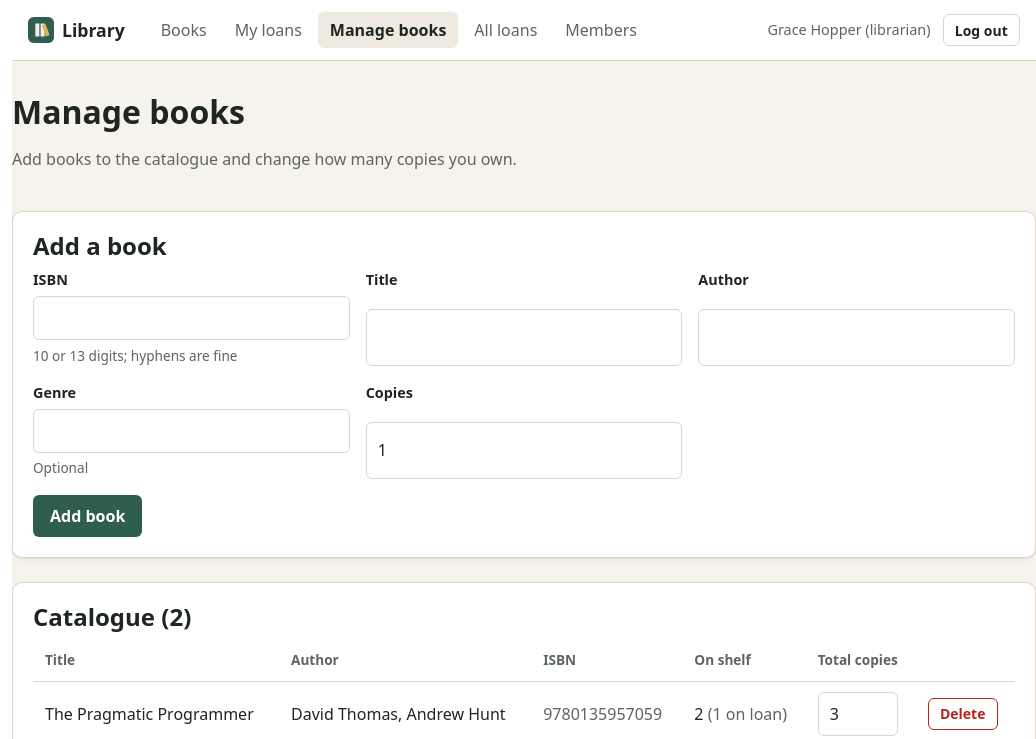
manage books › adds a book and shows field errors from the API first
Type "12345" into the field labelled "ISBN" at point(191, 318), box [33,296,350,340]
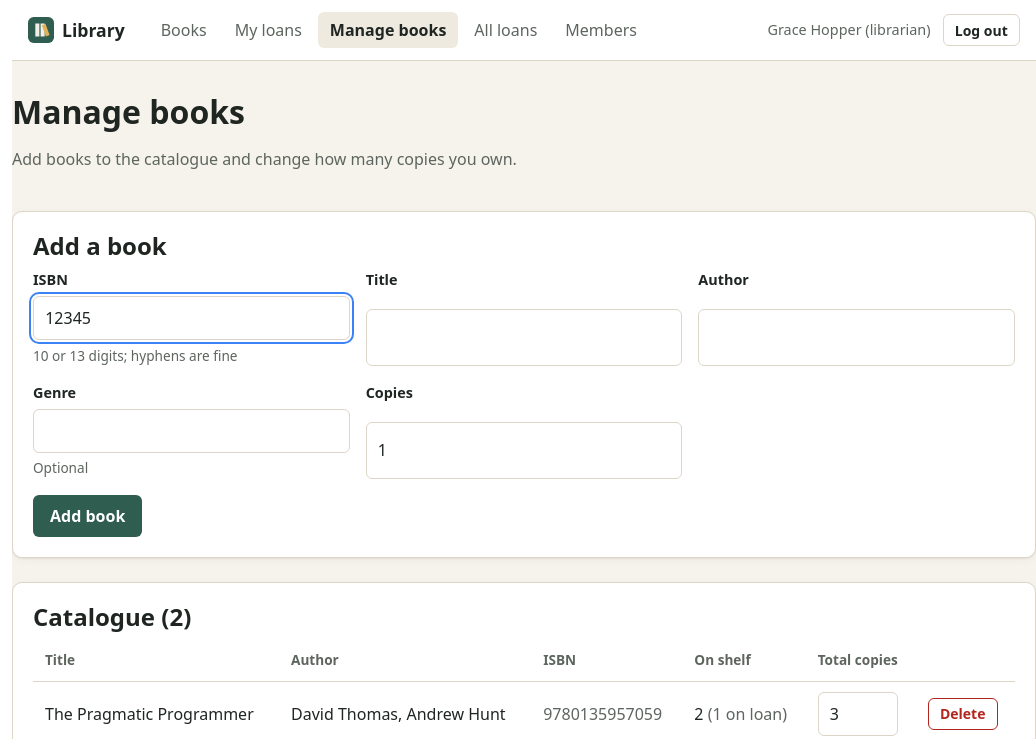
Type "Test-Driven Development" into the field labelled "Title" at point(524, 338), box [366,309,682,366]
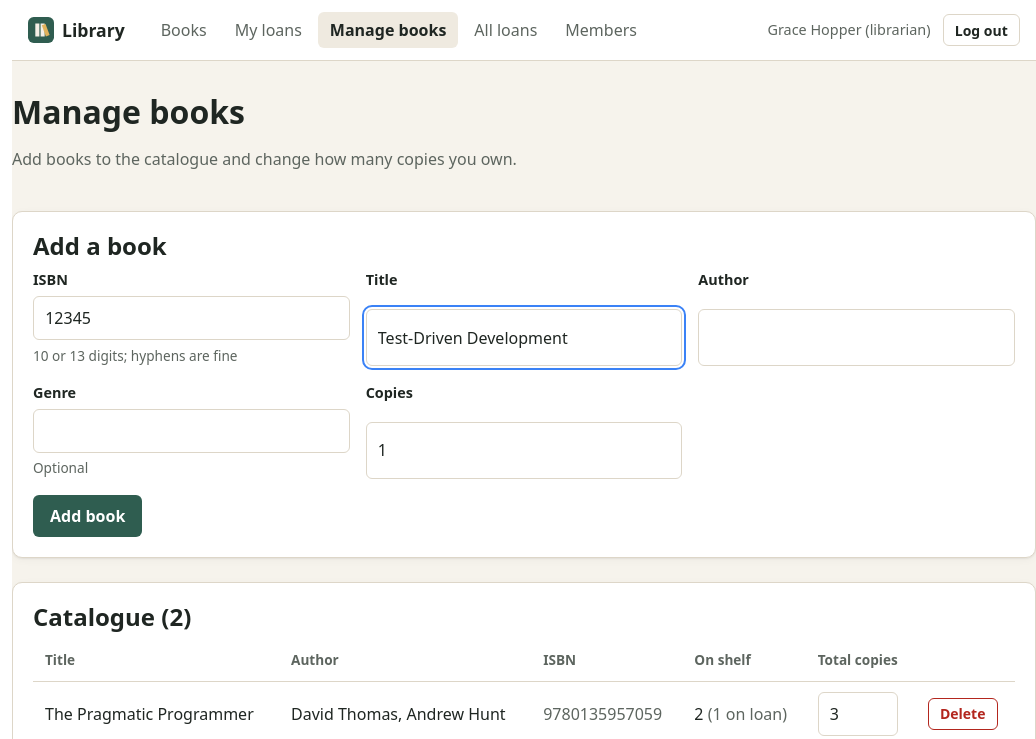
Type "Kent Beck" into the field labelled "Author" at point(857, 338), box [698,309,1015,366]
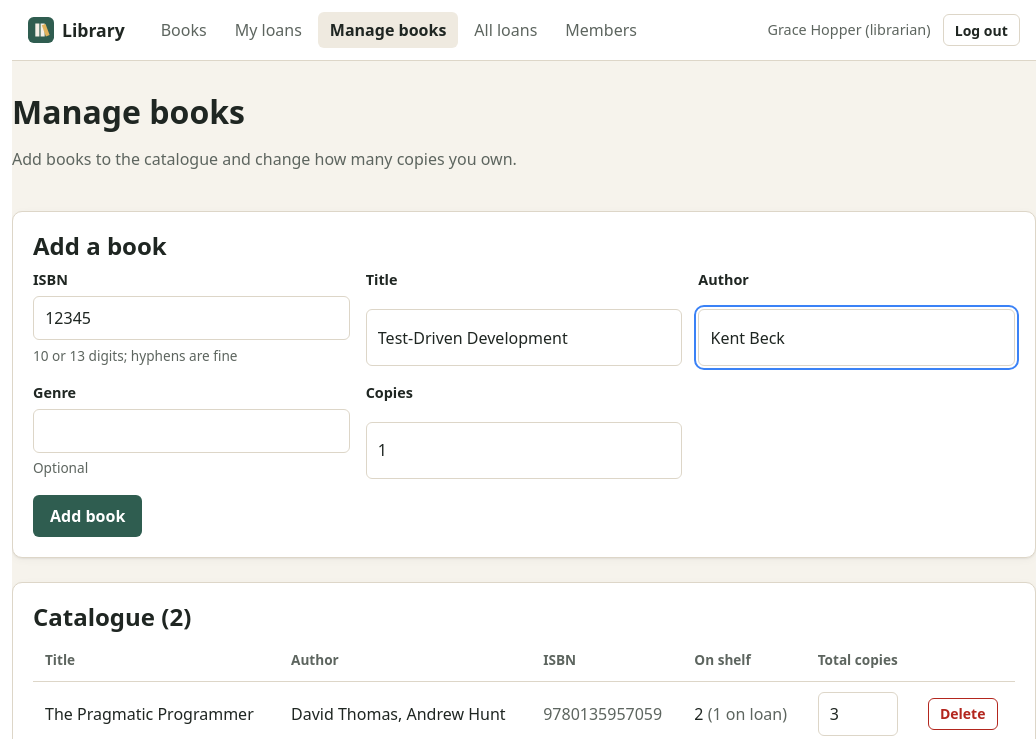
Click the button "Add book" at point(88, 516), box [33,495,142,537]
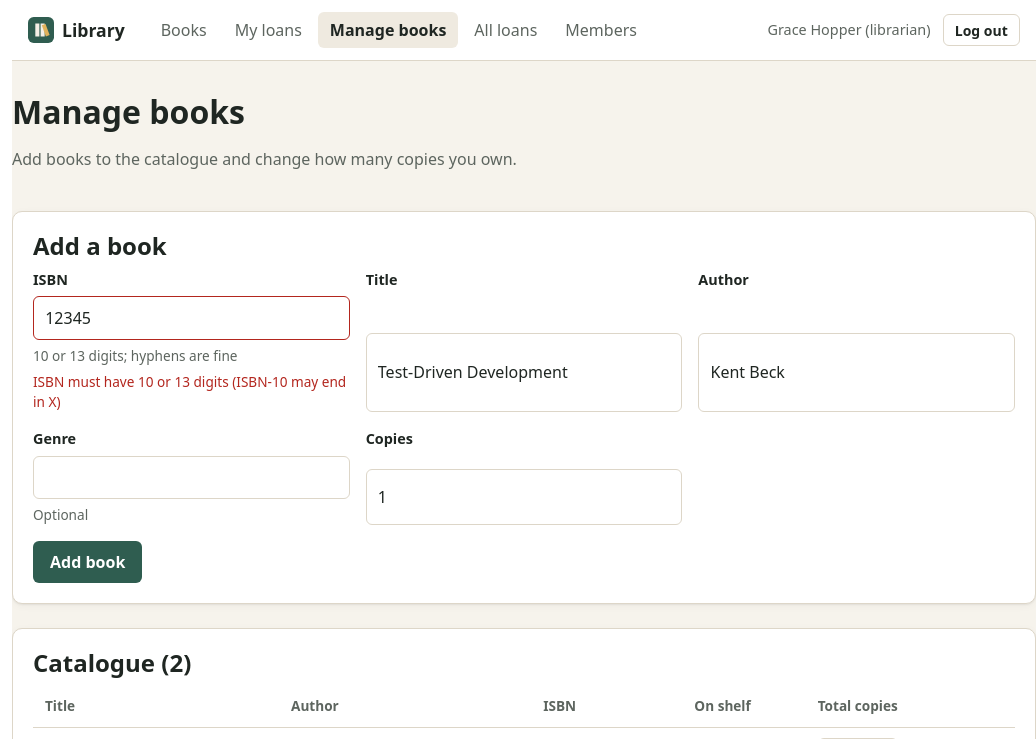
Result: the text "ISBN must have 10 or 13 digits (ISBN-10 may end in X)" is shown at [33,372,350,412]
Replace the text in the field labelled "ISBN" with "978-0-321-14653-3" at point(191, 318), box [33,296,350,340]
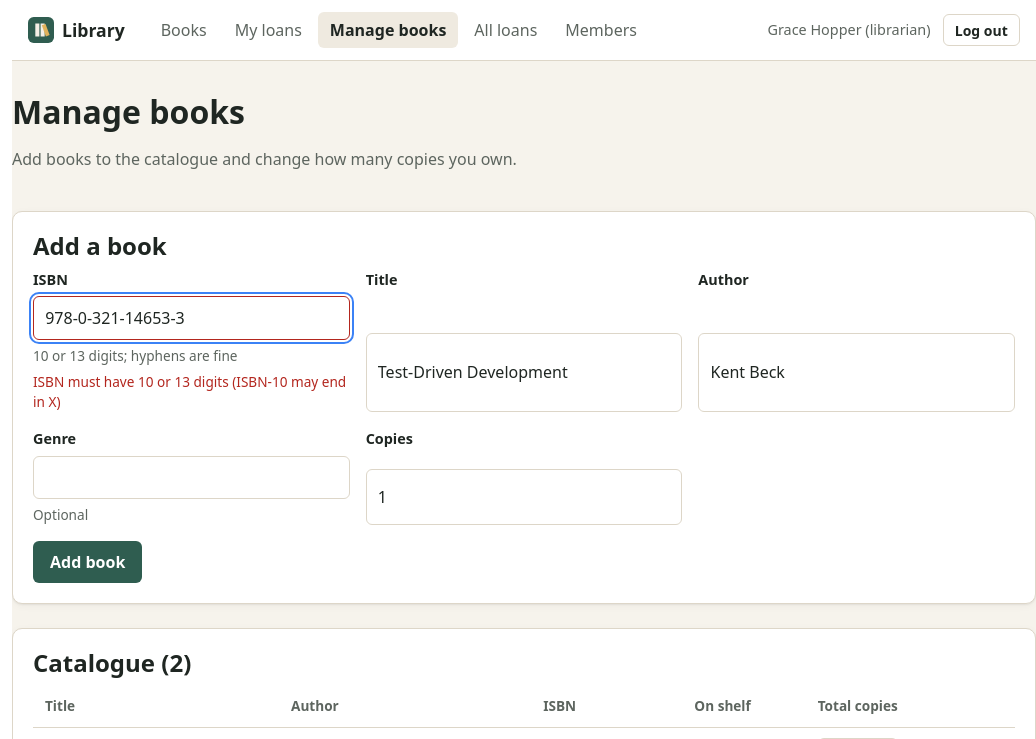
Click the button "Add book" at point(88, 562), box [33,541,142,583]
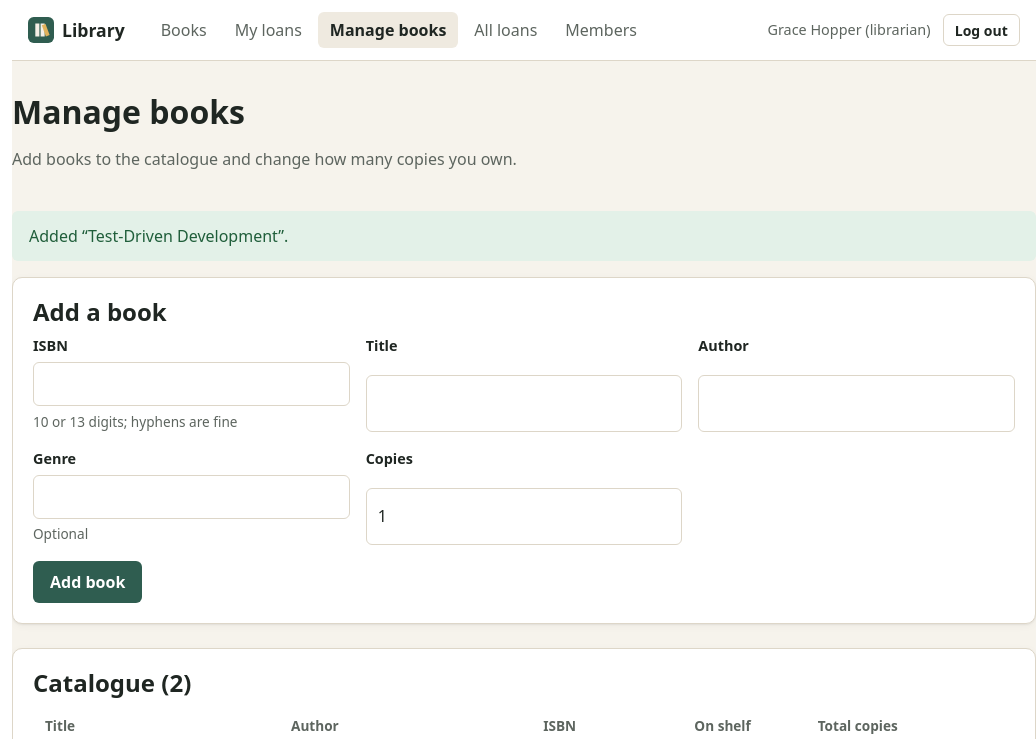
Result: the message reads "Added “Test-Driven Development”." at [29,225,288,247]
Result: the field labelled "Title" is empty at [366,375,682,432]
